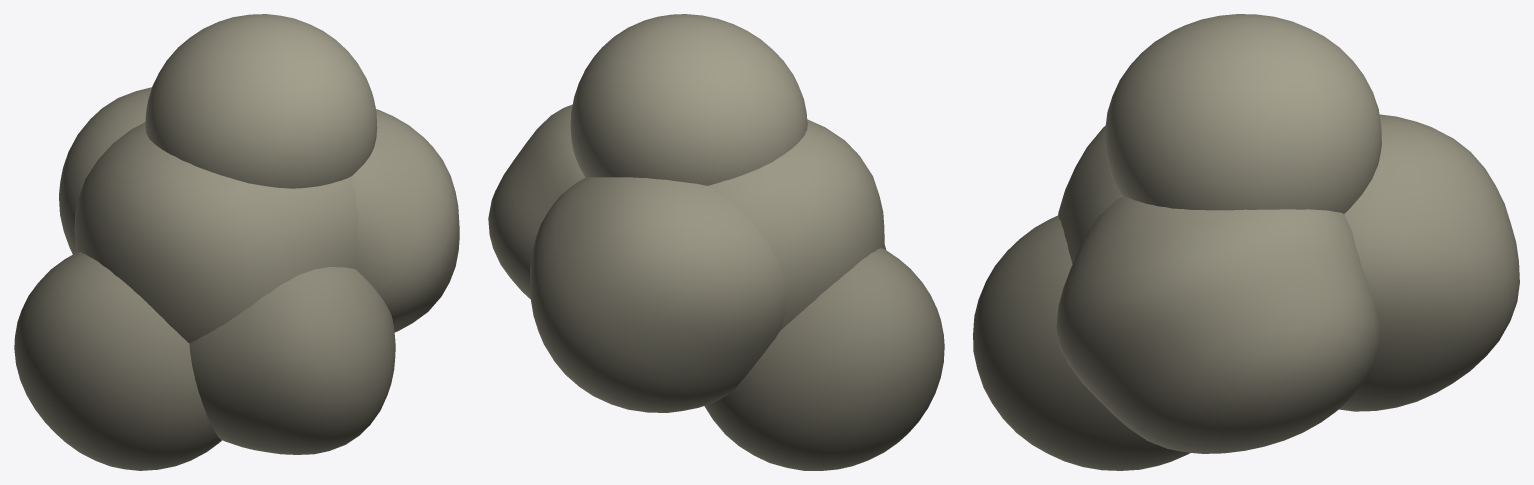
Rendered from bush_a_winter.glb.
3 views of the same model, side by side, from view 1: azimuth 30°, elevation 25°; view 2: azimuth 150°, elevation 25°; view 3: azimuth 270°, elevation 25° (orthographic). The views are drawn at different scales.
Parts seen in each view (by area): view 1: crown; view 2: crown; view 3: crown.
Part boxes in pixels (box(x1,y1,x2,y2)): crown: box(14, 14, 459, 470); crown: box(488, 14, 944, 470); crown: box(973, 14, 1519, 470).
Bounding box in the file's own units: 2.03 × 1.86 × 1.97.
